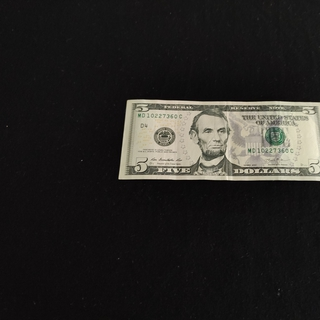5USDFront: (117, 99, 320, 183)
